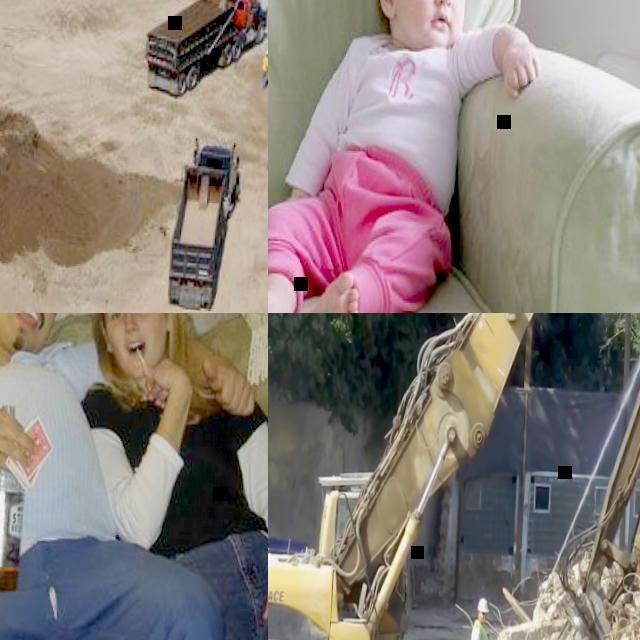Hardhat: (477, 596, 490, 613), (265, 47, 268, 53)
NO-Mask: (106, 316, 169, 377), (407, 4, 462, 48), (0, 313, 55, 349), (479, 614, 486, 624)
NO-Safety Vest: (86, 370, 268, 555), (0, 327, 122, 569), (341, 41, 461, 191)
Person: (268, 0, 549, 313), (0, 313, 246, 640), (70, 313, 268, 640), (464, 593, 492, 640), (260, 47, 268, 86)
Safety Vest: (469, 624, 489, 640), (263, 54, 268, 70)
machinery: (268, 313, 640, 640), (166, 134, 244, 313), (143, 0, 268, 103)
